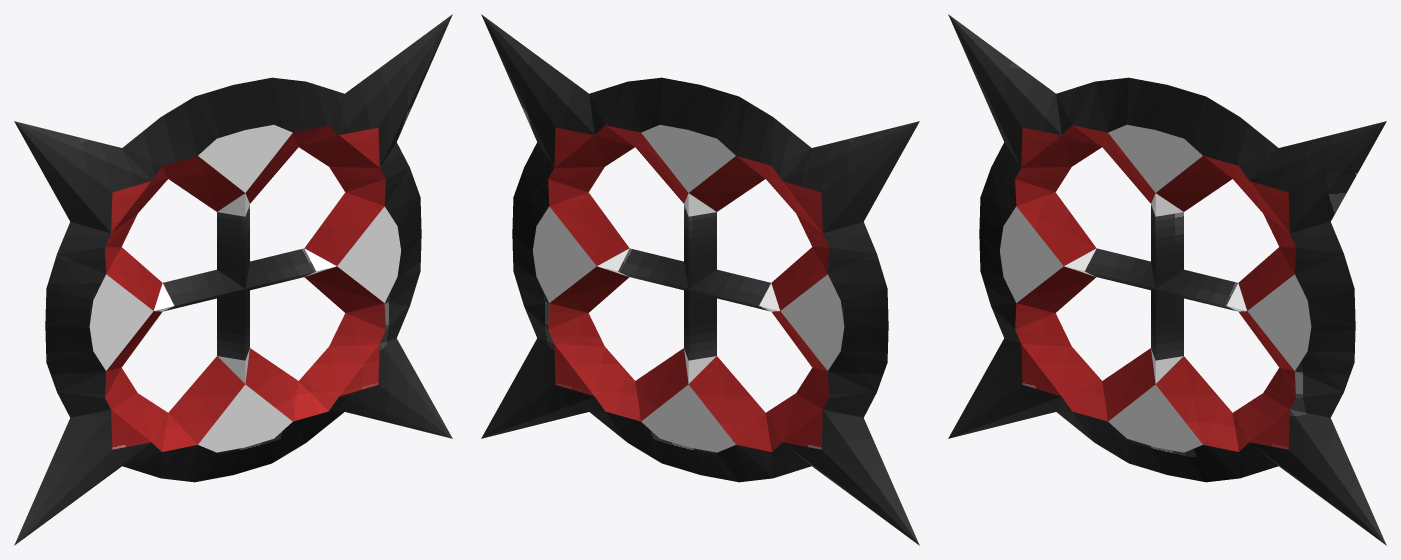
The model's file is inferno.obj.
The picture shows the model from 3 angles, left to right: view 1: azimuth 30°, elevation 25°; view 2: azimuth 150°, elevation 25°; view 3: azimuth 330°, elevation 25°; orthographic projection.
Size of the model in its own units: 63.83 by 59.04 by 6.
